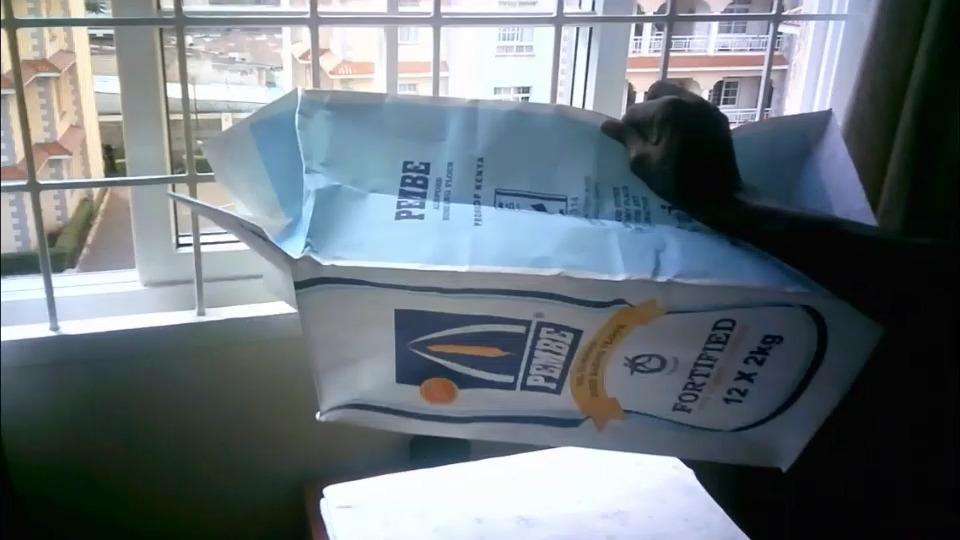wheat_flour_blue_label: (295, 86, 886, 470)
